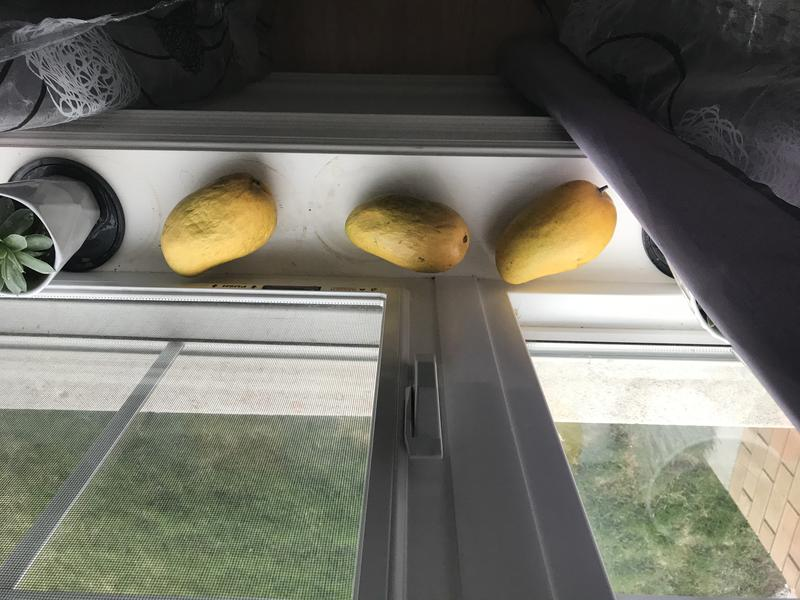mango: (488, 173, 621, 288), (154, 166, 283, 280), (341, 187, 476, 278)
